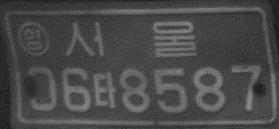0: (25, 65, 58, 112)
5: (153, 67, 188, 114)
6: (60, 66, 90, 111)
7: (229, 65, 261, 111)
8: (192, 67, 227, 112), (118, 67, 149, 113)
서울_D: (64, 20, 197, 58)
영: (16, 21, 50, 58)
타: (92, 72, 117, 109)
